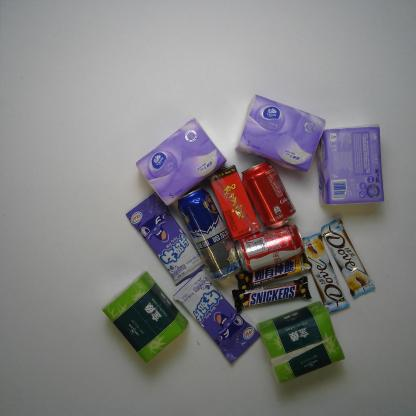Alcohol: (176, 187, 244, 281)
Candy: (174, 270, 262, 363), (126, 191, 206, 285)
Chocolate: (318, 217, 376, 299), (298, 231, 350, 314), (236, 250, 314, 290), (230, 275, 312, 312)
Drink: (240, 160, 296, 229), (211, 164, 260, 242), (235, 225, 304, 274)
Tissue: (136, 118, 228, 208), (101, 272, 187, 362), (256, 299, 346, 384), (237, 93, 326, 171), (319, 127, 385, 208)
